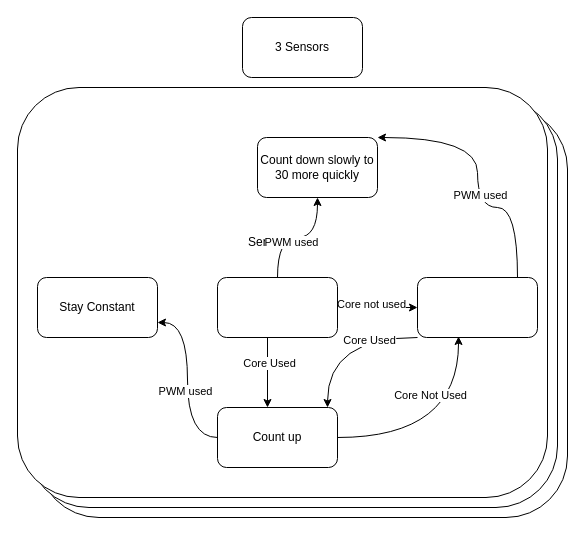
Image size: 585x535. Some labels were removed from this diagram. The shapes that lost their labels are listed below. From the top down, each one's centre as x and y in pixels, then its label:
At point 277,307: "Start at Random".
At point 477,307: "Count down slowly to 30".
